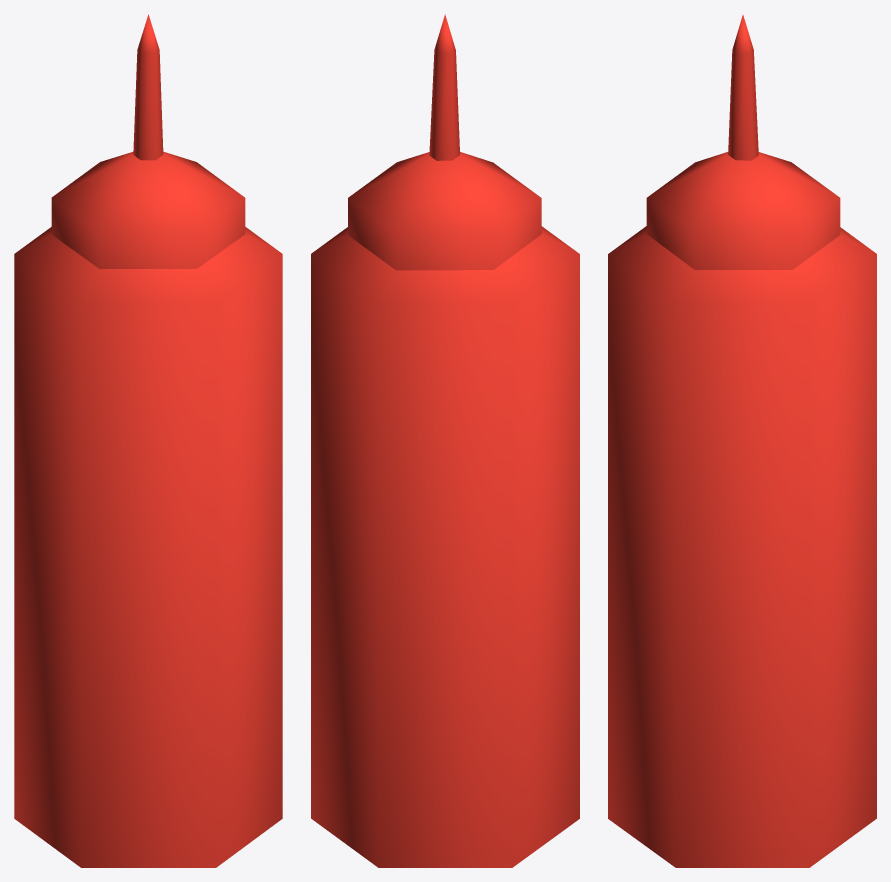
Rendered from shop_005.glb.
3 renders of one model, left to right at view 1: azimuth 30°, elevation 25°; view 2: azimuth 150°, elevation 25°; view 3: azimuth 270°, elevation 25°, orthographic.
Parts seen in each view (by area): view 1: shop_005; view 2: shop_005; view 3: shop_005.
Part boxes in pixels (box(x1,y1,x2,y2)): shop_005: box(14, 14, 282, 867); shop_005: box(311, 14, 579, 867); shop_005: box(608, 15, 876, 867).
Size of the model in its own units: 0.0717 by 0.2732 by 0.0827.
Materials: 1 (1 with a texture image).
